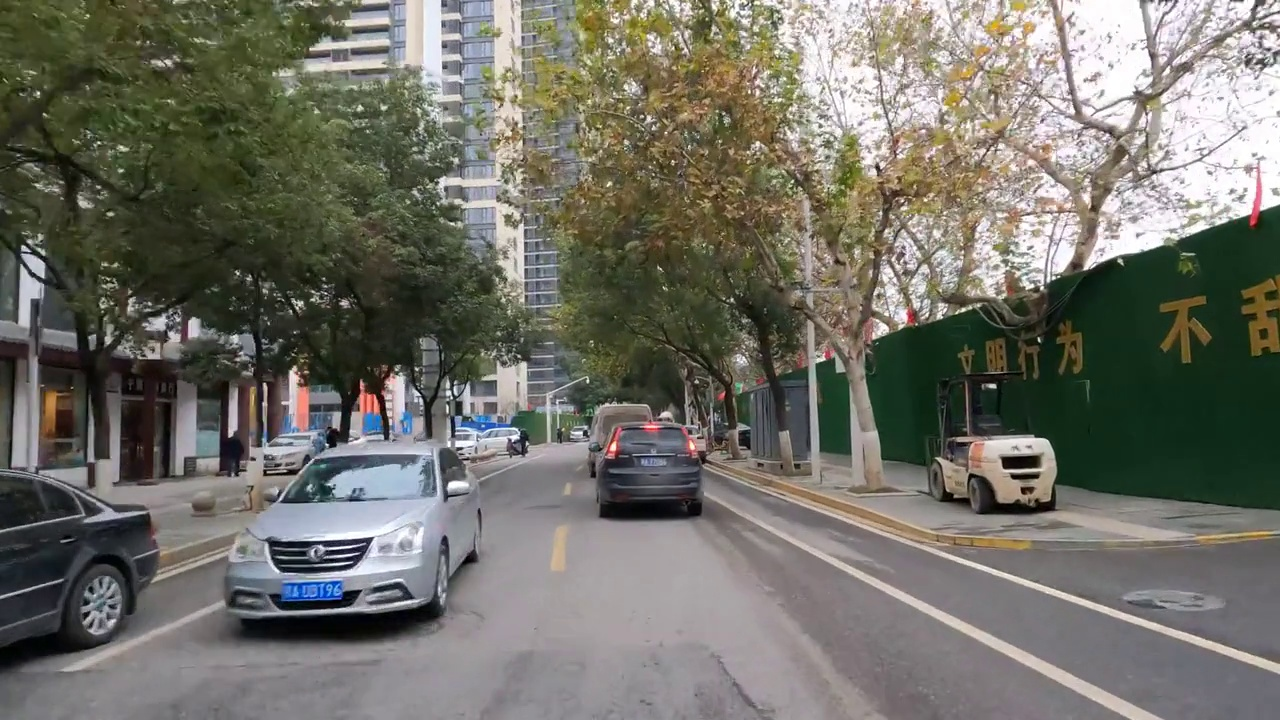lane: (751, 523, 1159, 720), (862, 528, 1280, 675), (62, 608, 223, 672), (549, 521, 569, 575)
